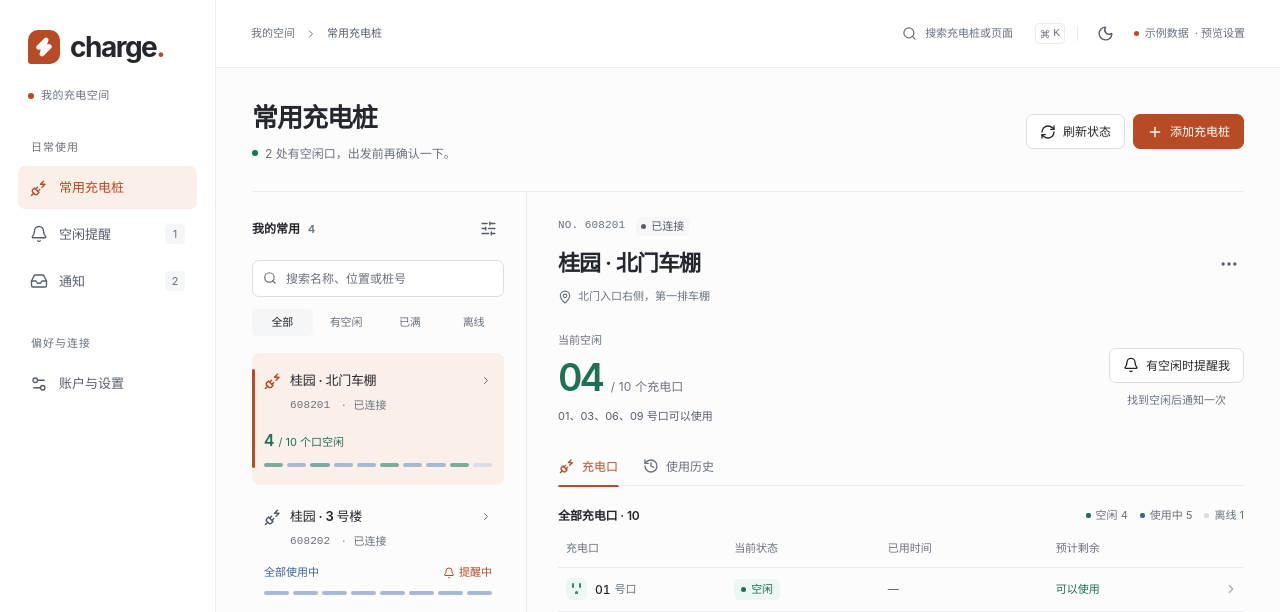
Test: working prototype › does not schedule a reminder when a pile already has idle ports
Click the button "有空闲时提醒我". click: (1176, 365)
box: [1109, 348, 1244, 383]
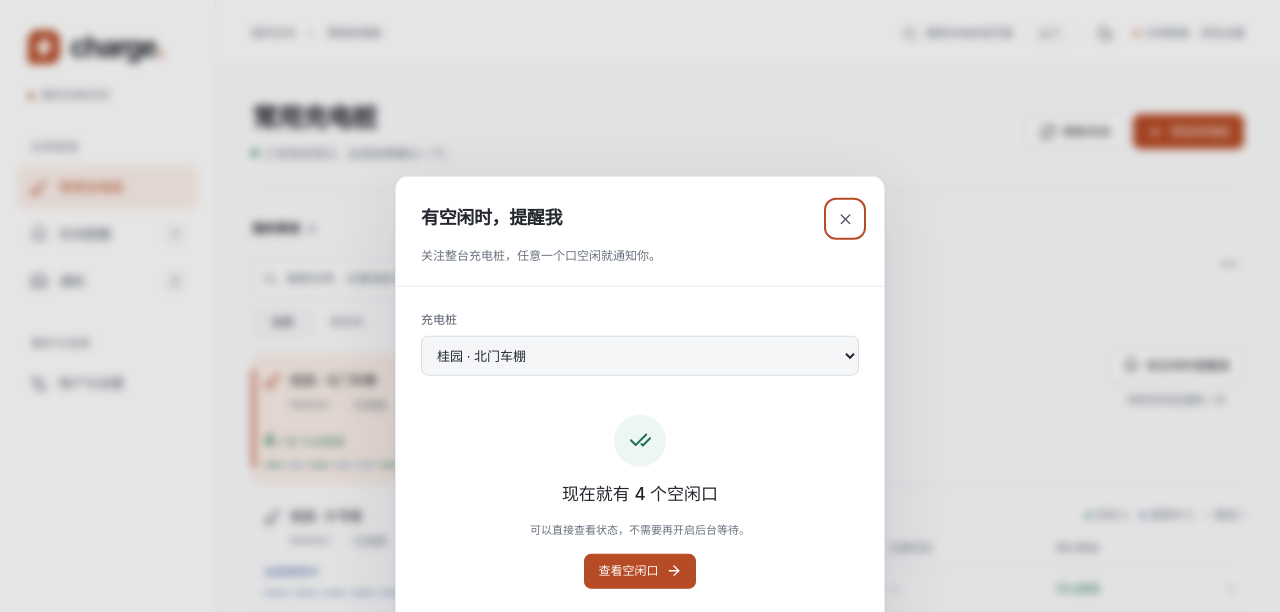
Now the heading "现在就有 4 个空闲口" is shown, box [562, 480, 718, 508]
